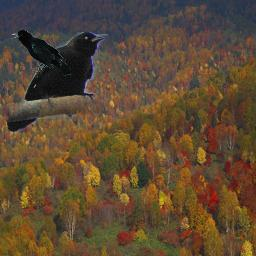Crow: (6, 32, 108, 133), (11, 30, 71, 78)
